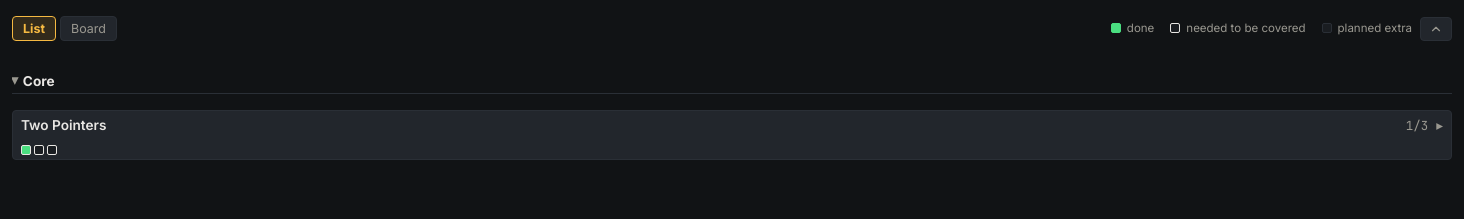
Test case: TechniqueListComponent › shows "No matching problems found." when details is loaded but nothing joins
This screenshot has width=1464, height=219.
Click the button with class "tech-row__toggle" at {"x": 64, "y": 125}, box [13,111,1451,159]
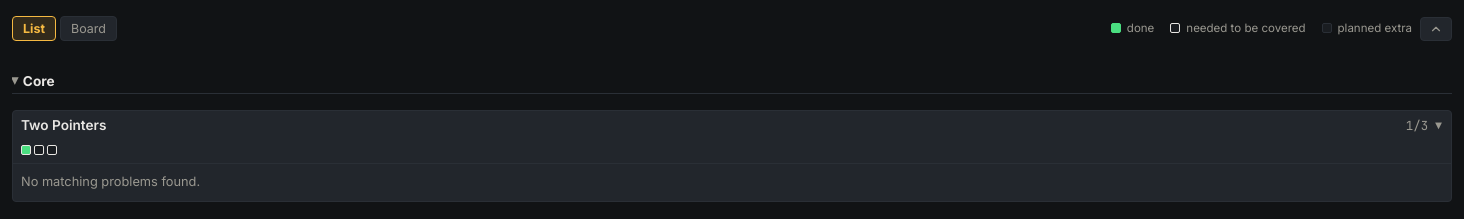
Expected: the text "No matching problems found." is shown, [21,174,200,189]
